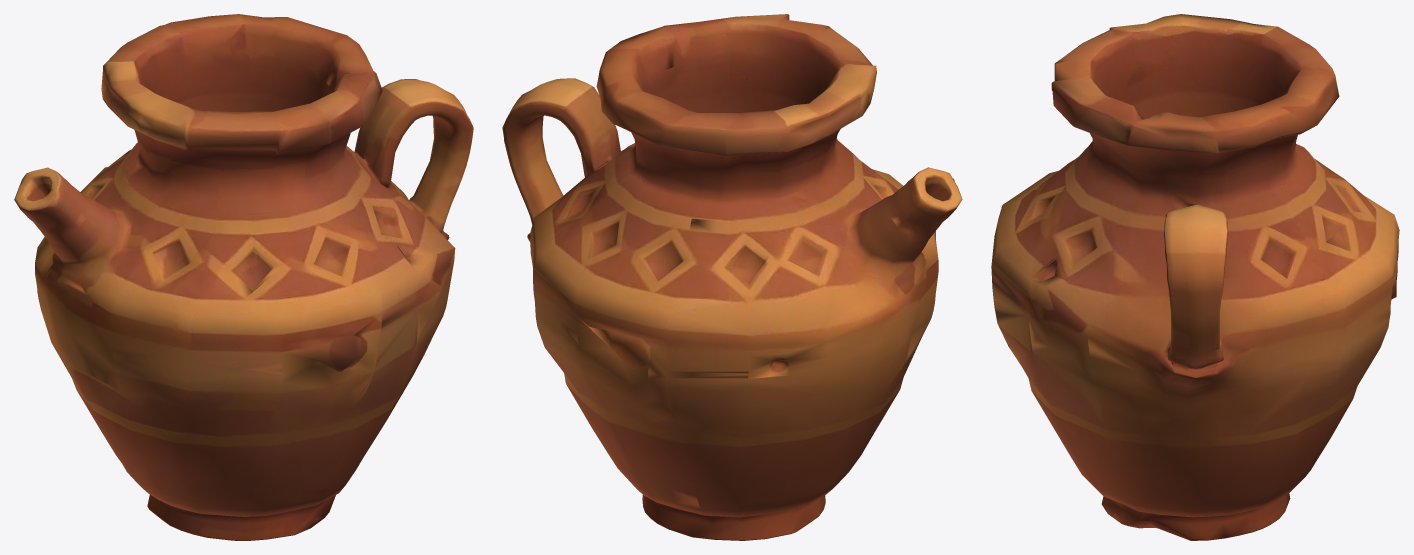
Rendered from jarro_barro.glb.
3 renders of one model, left to right at view 1: azimuth 30°, elevation 25°; view 2: azimuth 150°, elevation 25°; view 3: azimuth 270°, elevation 25°, orthographic.
Visible parts, largest first — view 1: tripo_node_a5470a2a-1616-4d51-872d-dd6edf8114b3; view 2: tripo_node_a5470a2a-1616-4d51-872d-dd6edf8114b3; view 3: tripo_node_a5470a2a-1616-4d51-872d-dd6edf8114b3.
Boxes of the visible parts, x1,y1,x2,y2 form: tripo_node_a5470a2a-1616-4d51-872d-dd6edf8114b3: (14, 14, 473, 540); tripo_node_a5470a2a-1616-4d51-872d-dd6edf8114b3: (502, 14, 962, 540); tripo_node_a5470a2a-1616-4d51-872d-dd6edf8114b3: (991, 14, 1399, 540).
Size of the model in its own units: 0.9783 by 0.9132 by 0.7792.
1 material, 1 textured.
